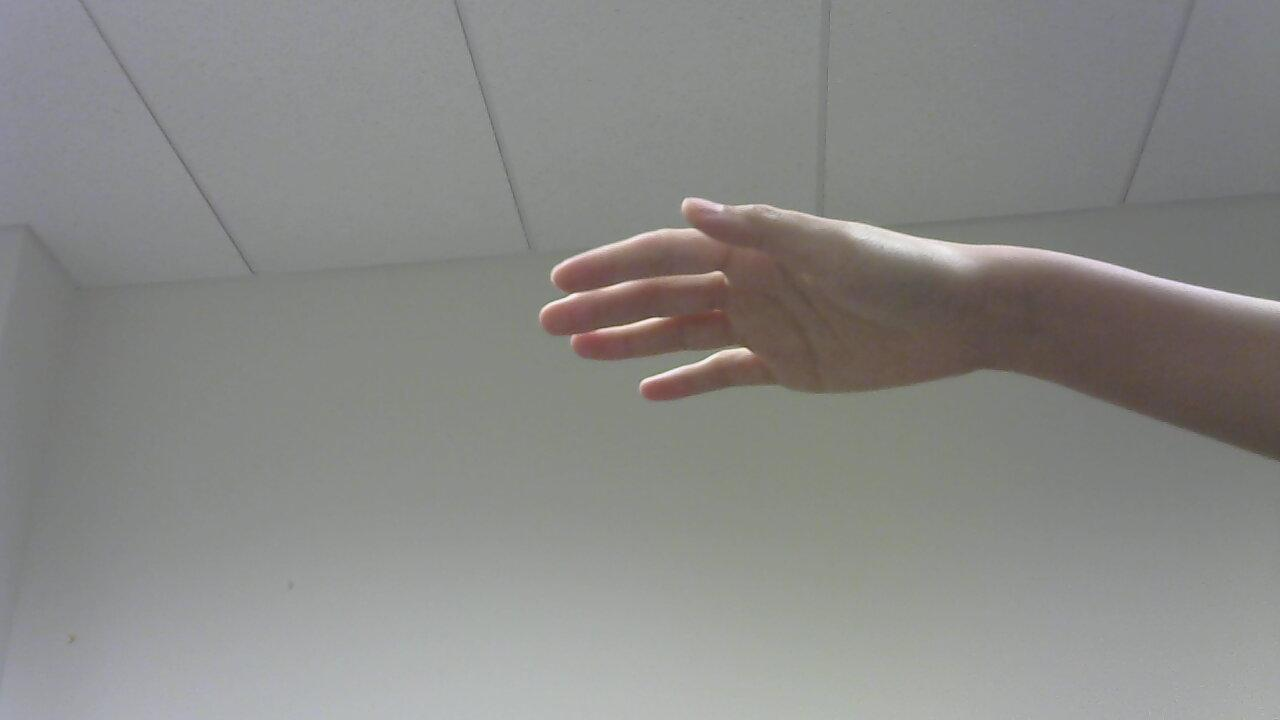hands: (535, 187, 980, 430)
